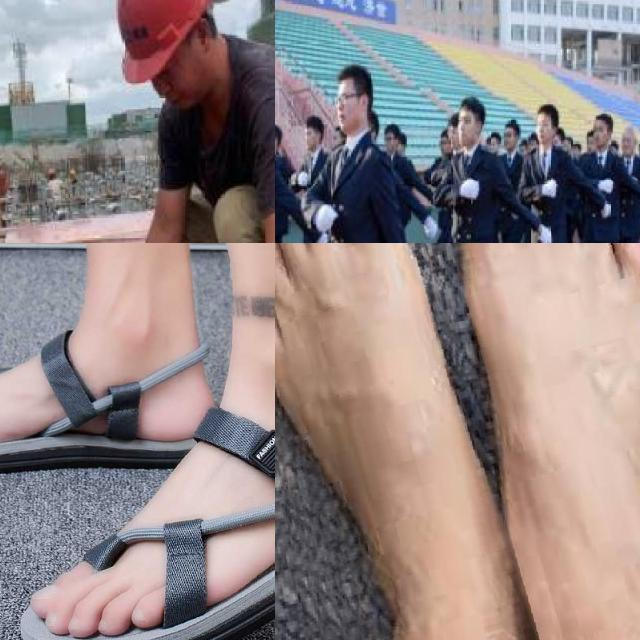Barefoots: (275, 243, 534, 640), (422, 243, 640, 640)
Sandals: (16, 352, 275, 640), (0, 314, 213, 475)
face_nomask: (147, 25, 204, 117), (333, 91, 367, 137), (456, 115, 478, 146), (533, 117, 550, 144)
hand_glove: (313, 195, 338, 232), (542, 174, 560, 203), (461, 176, 479, 204), (537, 218, 556, 243), (424, 214, 438, 240), (599, 175, 615, 191), (314, 230, 331, 243), (601, 201, 613, 217), (299, 168, 310, 182)
head_helmet: (117, 0, 213, 88)
head_nohelmet: (336, 55, 375, 86), (298, 112, 324, 134), (458, 103, 484, 118), (536, 108, 555, 126), (598, 114, 612, 129)
person: (28, 0, 275, 243), (321, 55, 424, 243), (428, 92, 500, 243), (520, 90, 573, 243), (574, 106, 630, 243)
